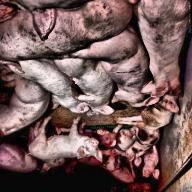boar: (0, 1, 191, 184)
